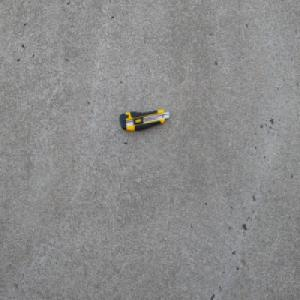Cutter: (118, 109, 170, 132)
